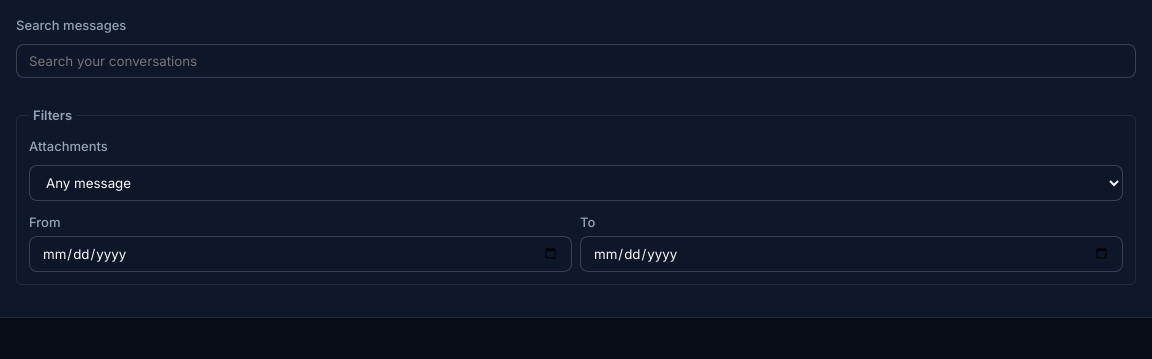
Test: results › announces that a search is running
Type "deploy" into the search field with test id "search-input" at (576, 60), box x1=16 y1=44 x2=1136 y2=78
Wait 300 ms
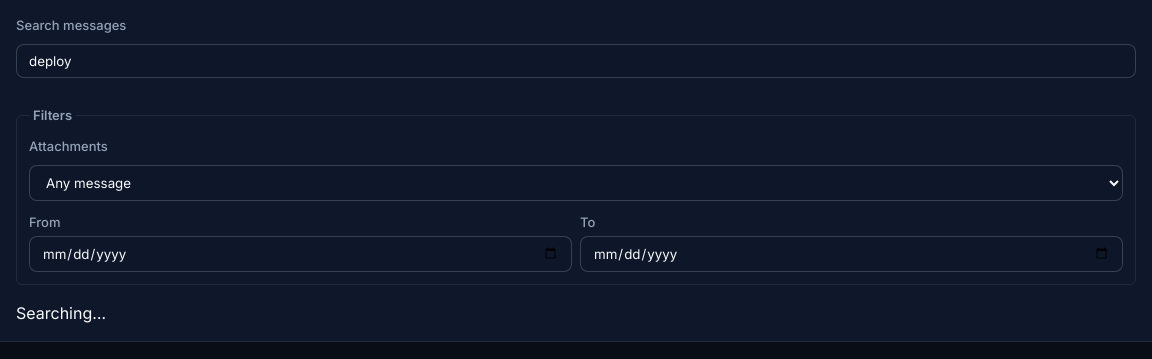
Result: the message reads "Searching…" at x1=16 y1=303 x2=106 y2=323
